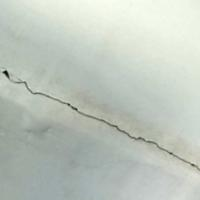crack: (0, 59, 199, 192)
